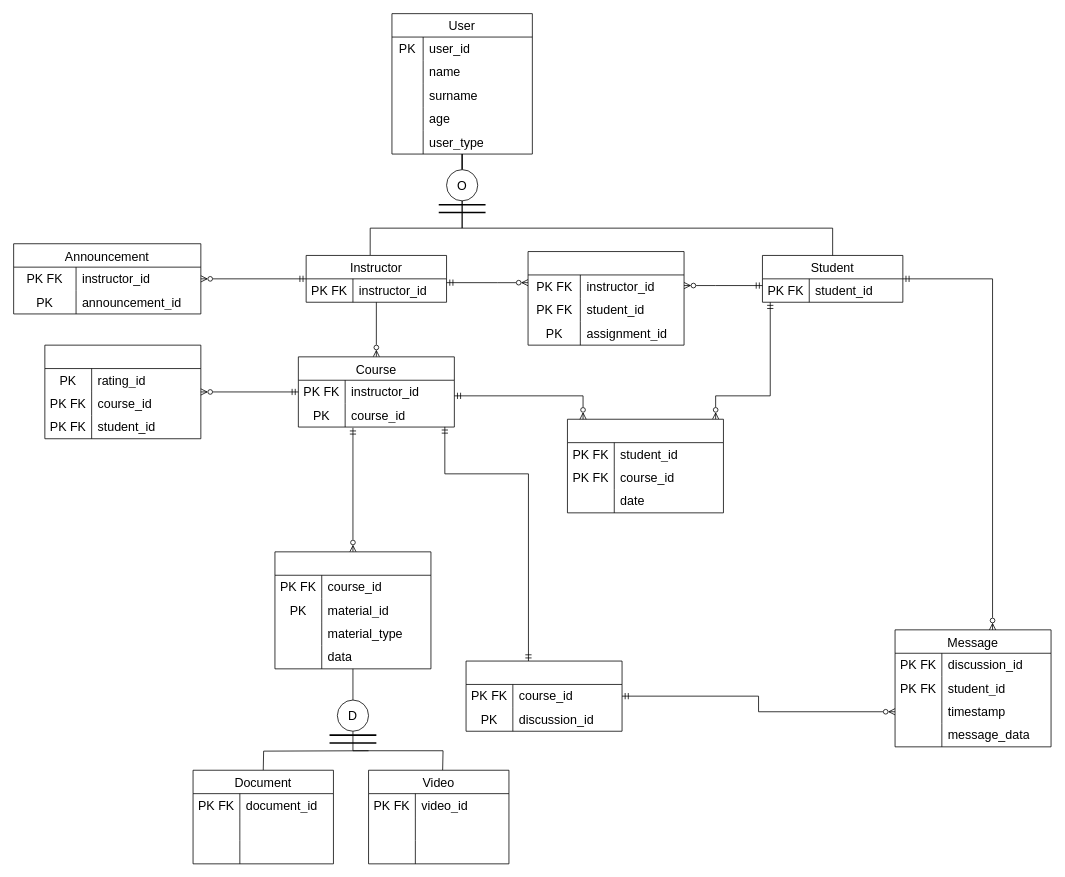
This 1065x877 diagram has some shape labels left out. Here are the shapes that lost their labels. From the top down, the box of each, then its label:
(527, 251, 684, 345): Student Assignment
(44, 344, 201, 439): Ratings
(567, 418, 723, 513): Course Attendance
(274, 551, 431, 669): Course Material
(465, 660, 622, 731): Course Discussion
